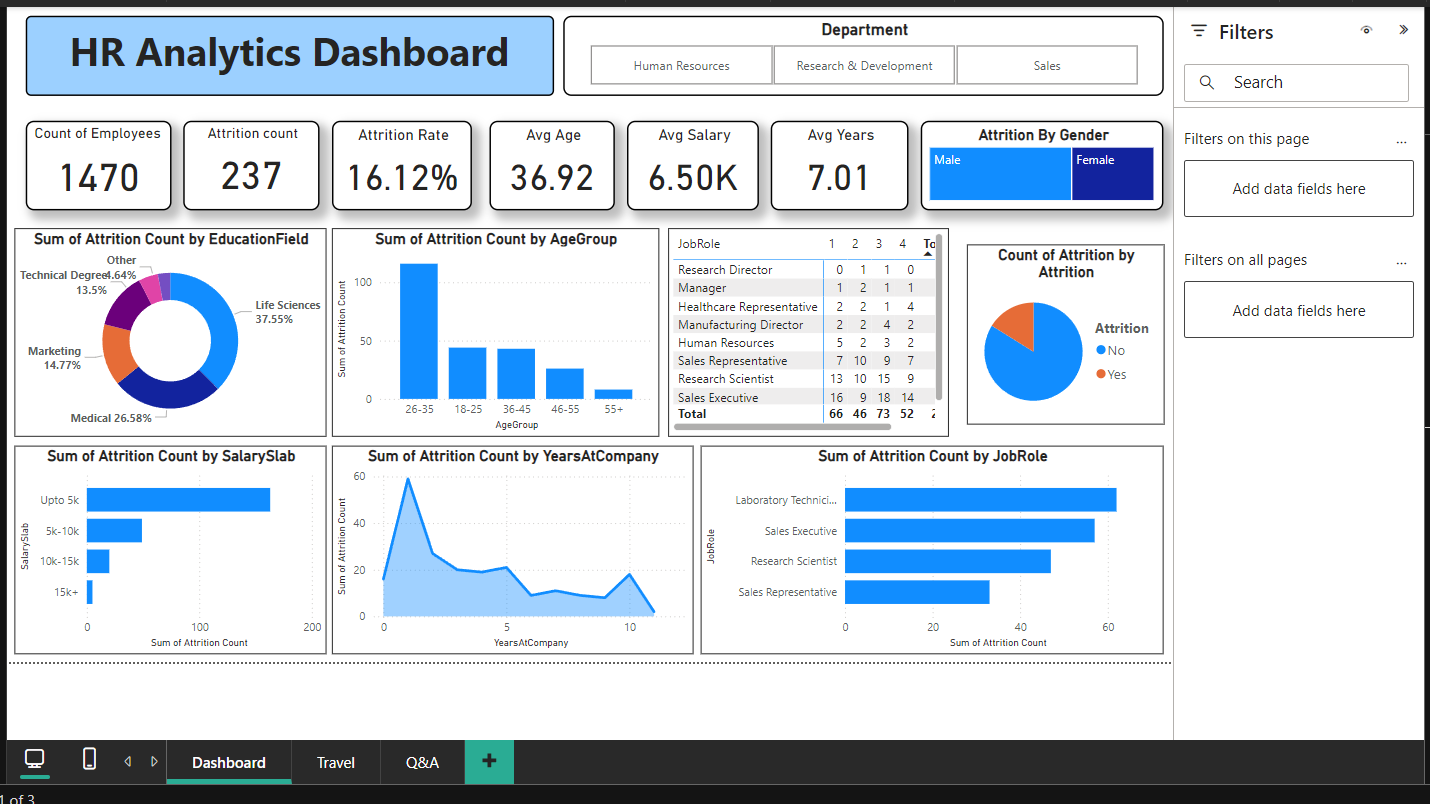

This screenshot's page, from the dashboard's own definition file:
{"tool":"powerbi","page":{"name":"Dashboard","canvas":[1280,720],"ordinal":0},"visuals":[{"type":"card","title":"Count of Employees","fields":{"Values":["Sum(HR_Analytics.EmployeeCount)"]},"box":[20.5,124.5,159.7,98.1],"z":0},{"type":"card","title":"Attrition count","fields":{"Values":["Sum(HR_Analytics.Attrition Count)"]},"box":[193.4,124.5,149.4,98.1],"z":1000},{"type":"card","title":"Attrition Rate","fields":{"Values":["HR_Analytics.AttritionRate"]},"box":[357.4,124.5,153.8,98.1],"z":2000},{"type":"card","title":"Avg Age","fields":{"Values":["Avg(HR_Analytics.Age)"]},"box":[530.3,124.5,137.7,98.1],"z":3000},{"type":"card","title":"Avg Salary","fields":{"Values":["Avg(HR_Analytics.MonthlyIncome)"]},"box":[681.2,124.5,145,98.1],"z":4000},{"type":"card","title":"Avg Years","fields":{"Values":["Avg(HR_Analytics.YearsAtCompany)"]},"box":[837.9,124.5,150.9,98.1],"z":5000},{"type":"textbox","box":[20.5,10.3,580.1,87.9],"z":6000},{"type":"treemap","title":"Attrition By Gender","fields":{"Group":["HR_Analytics.Gender"],"Values":["Sum(HR_Analytics.Attrition Count)"]},"box":[1003.4,124.5,266.6,98.1],"z":7000},{"type":"slicer","title":"Department","fields":{"Values":["HR_Analytics.Department"]},"box":[610.9,10.3,659.2,87.9],"z":7001},{"type":"donutChart","fields":{"Y":["Sum(HR_Analytics.Attrition Count)"],"Category":["HR_Analytics.EducationField"]},"box":[8.8,243.2,342.8,228.5],"z":7002},{"type":"pivotTable","fields":{"Rows":["HR_Analytics.JobRole"],"Values":["Sum(HR_Analytics.Attrition Count)"],"Columns":["HR_Analytics.JobSatisfaction"]},"box":[726.6,243.2,307.6,228.5],"z":7003},{"type":"columnChart","fields":{"Category":["HR_Analytics.AgeGroup"],"Y":["Sum(HR_Analytics.Attrition Count)"]},"box":[357.4,243.2,358.9,228.5],"z":7004},{"type":"barChart","fields":{"Category":["HR_Analytics.SalarySlab"],"Y":["Sum(HR_Analytics.Attrition Count)"]},"box":[8.8,481.9,342.8,228.5],"z":7005},{"type":"barChart","fields":{"Category":["HR_Analytics.JobRole"],"Y":["Sum(HR_Analytics.Attrition Count)"]},"box":[761.7,481.9,508.3,228.5],"z":7006},{"type":"areaChart","fields":{"Category":["HR_Analytics.YearsAtCompany"],"Y":["Sum(HR_Analytics.Attrition Count)"]},"box":[357.4,481.9,397,228.5],"z":7007},{"type":"pieChart","fields":{"Category":["HR_Analytics.Attrition"],"Y":["CountNonNull(HR_Analytics.Attrition)"]},"box":[1053.2,260.7,216.8,197.8],"z":7008}]}

Visuals, with their boxes on the page's 1280x720 design canvas (x1, y1, x2, y2). These are canvas units, not pixel positions in the 1430x804 screenshot, which may show the page scaled, cropped or inside an application window:
"Count of Employees" card: 20,124,180,223
"Attrition count" card: 193,124,343,223
"Attrition Rate" card: 357,124,511,223
"Avg Age" card: 530,124,668,223
"Avg Salary" card: 681,124,826,223
"Avg Years" card: 838,124,989,223
textbox: 20,10,601,98
"Attrition By Gender" treemap: 1003,124,1270,223
"Department" slicer: 611,10,1270,98
donutChart - Sum(HR_Analytics.Attrition Count) x HR_Analytics.EducationField: 9,243,352,472
pivotTable - HR_Analytics.JobRole x Sum(HR_Analytics.Attrition Count): 727,243,1034,472
columnChart - HR_Analytics.AgeGroup x Sum(HR_Analytics.Attrition Count): 357,243,716,472
barChart - HR_Analytics.SalarySlab x Sum(HR_Analytics.Attrition Count): 9,482,352,710
barChart - HR_Analytics.JobRole x Sum(HR_Analytics.Attrition Count): 762,482,1270,710
areaChart - HR_Analytics.YearsAtCompany x Sum(HR_Analytics.Attrition Count): 357,482,754,710
pieChart - HR_Analytics.Attrition x CountNonNull(HR_Analytics.Attrition): 1053,261,1270,458
